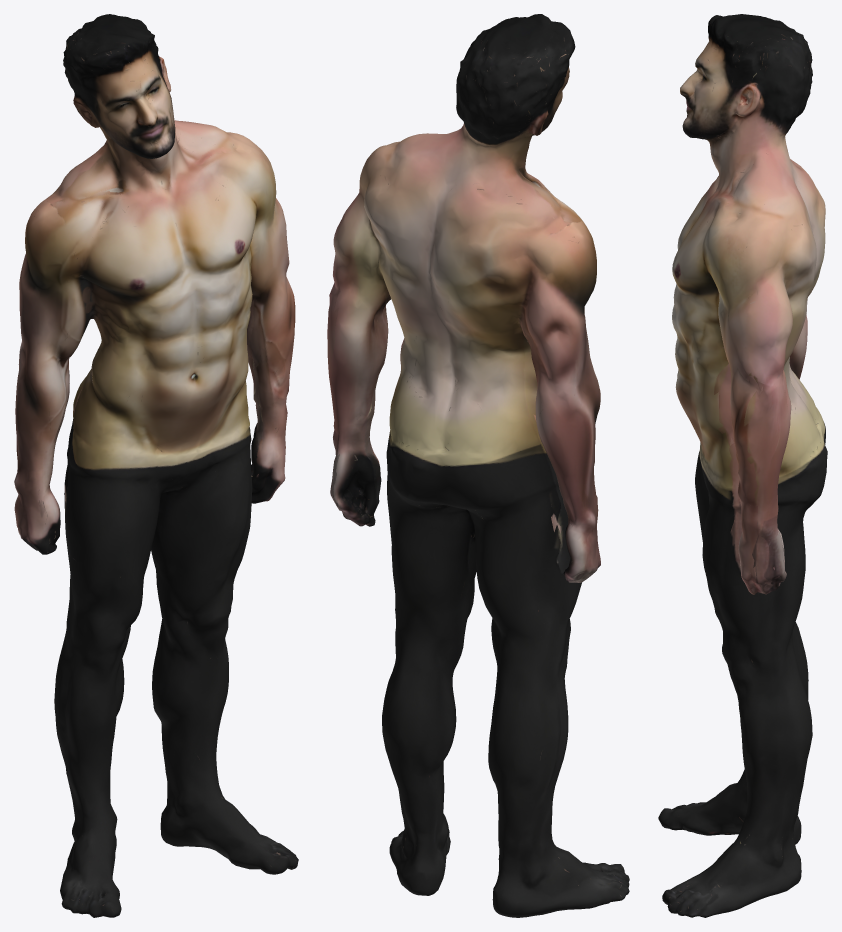
Rendered from jhon.jpg_1768541772113.glb.
The picture shows the model from 3 angles, left to right: view 1: azimuth 30°, elevation 25°; view 2: azimuth 150°, elevation 25°; view 3: azimuth 270°, elevation 25°; orthographic projection. The views are drawn at different scales.
Size of the model in its own units: 0.6223 by 1.92 by 0.3551.
1 material, 1 textured.
